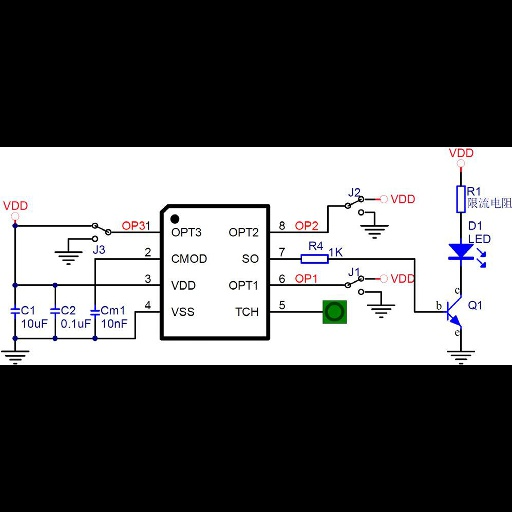capacitor: (7, 305, 21, 317), (48, 305, 60, 316), (89, 307, 101, 318)
firstled: (445, 242, 490, 271)
firstresistance: (451, 182, 467, 217), (297, 252, 331, 267)
gnd: (49, 249, 85, 267), (364, 302, 399, 320), (440, 350, 479, 364), (357, 224, 392, 239), (1, 349, 32, 364)
npn: (443, 293, 464, 328)
